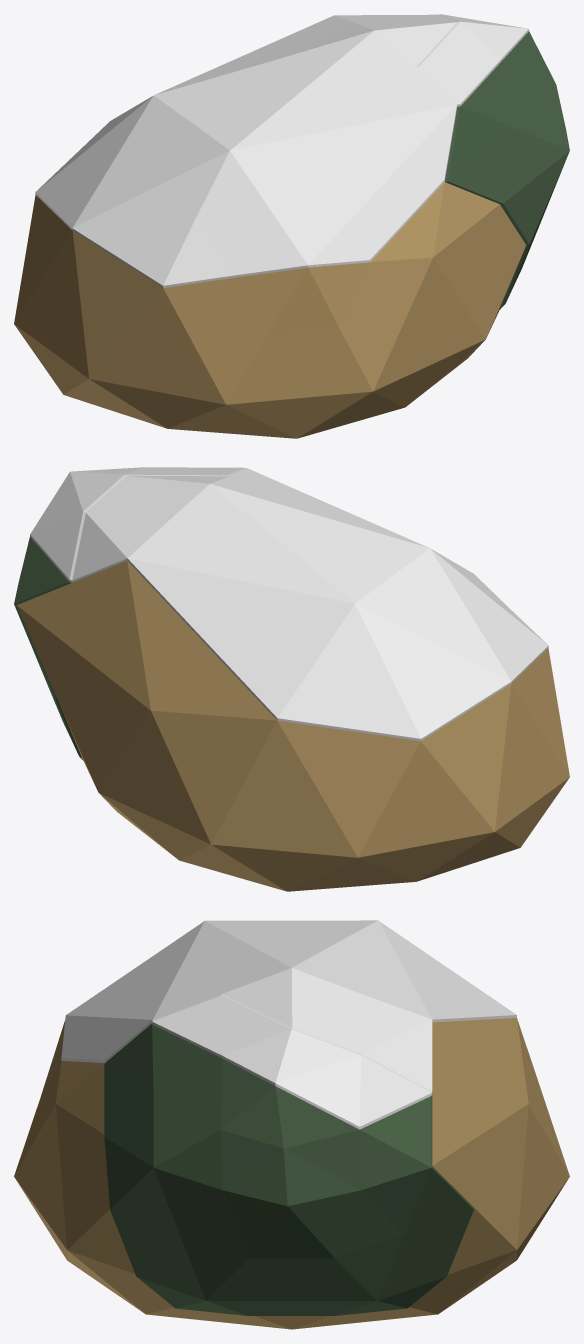
Rendered from MossStoneEb.fbx.
The picture shows the model from 3 angles, top to bottom: view 1: azimuth 30°, elevation 25°; view 2: azimuth 150°, elevation 25°; view 3: azimuth 270°, elevation 25°; orthographic projection. The views are drawn at different scales.
Parts seen in each view (by area): view 1: MossStoneE.001; view 2: MossStoneE.001; view 3: MossStoneE.001.
Part boxes in pixels (bbox=[...]): MossStoneE.001: bbox=[14, 14, 569, 438]; MossStoneE.001: bbox=[14, 467, 569, 891]; MossStoneE.001: bbox=[14, 920, 569, 1329].
Size of the model in its own units: 1091 by 600 by 913.
